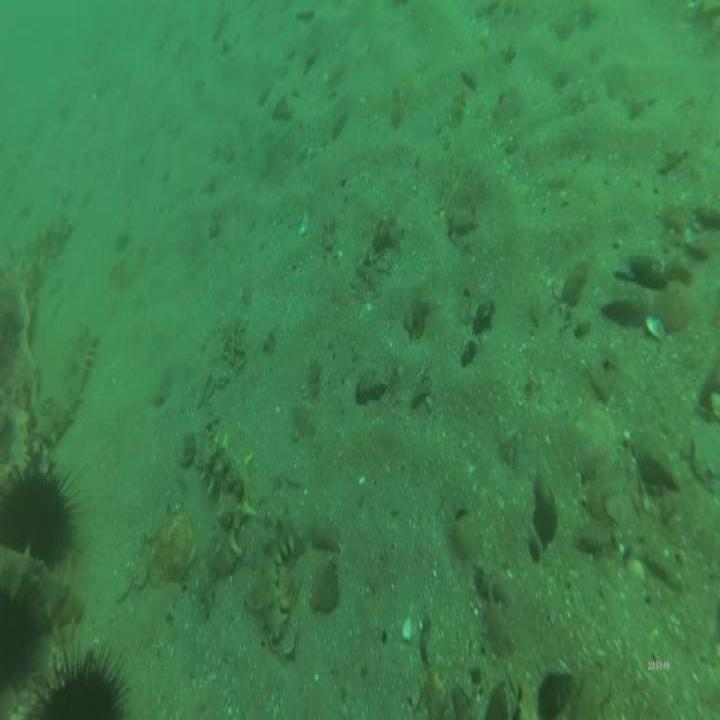echinus: (0, 450, 88, 574), (20, 633, 137, 718)
holothurian: (26, 313, 100, 446), (194, 427, 256, 576), (254, 507, 302, 640)
